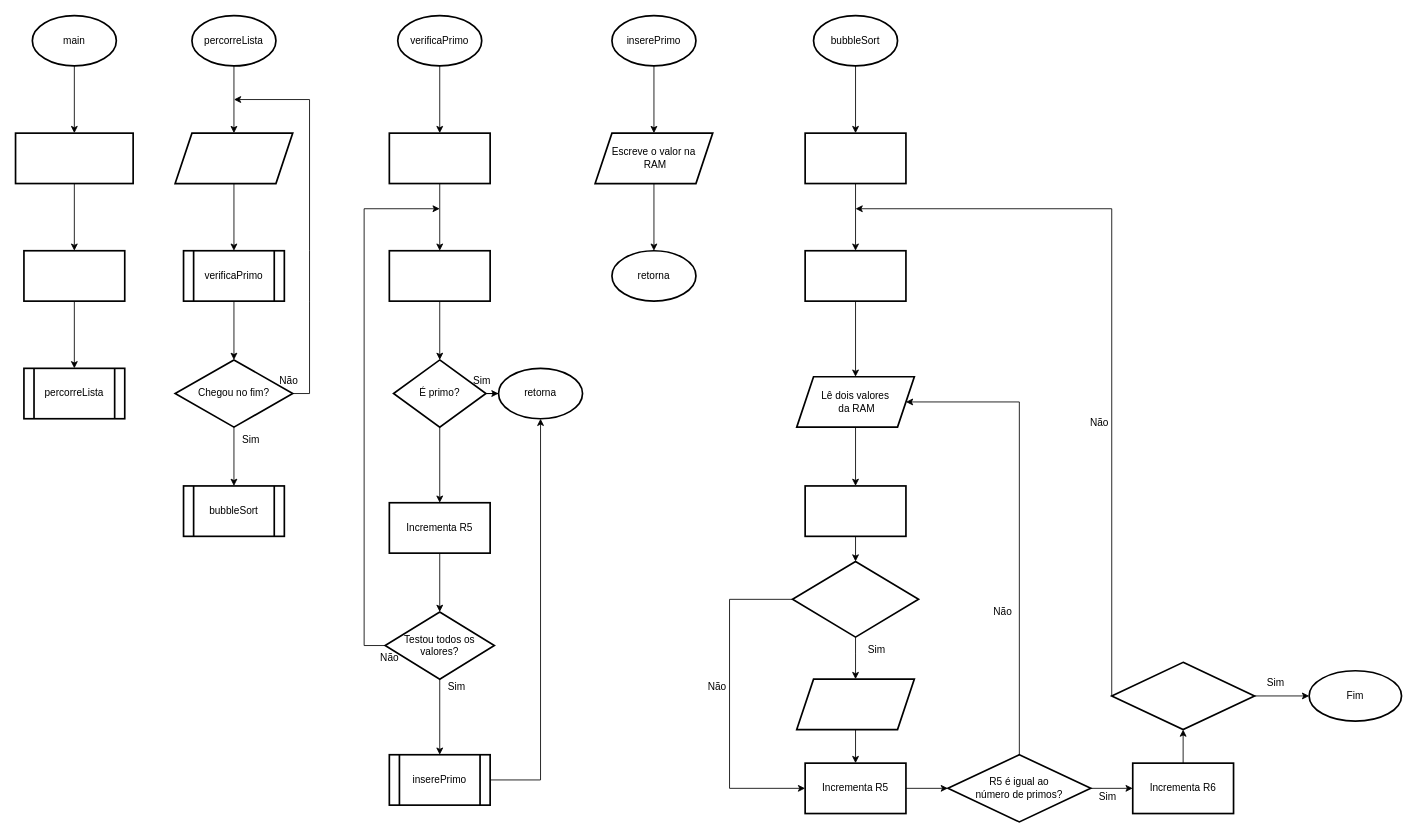
Some shapes in this 1416 by 837 pixel diagram are drawn without their labels. The shapes that lost their labels are listed below. From the top down, each one's centre as x and y in pixels, then its label:
pixel 74 158: lista = 0x20000200 primos = 0x20000300 R0 = lista
pixel 233 158: Lê um valor da RAM
pixel 439 158: R5 = 2
pixel 855 158: R6 = 1
pixel 74 275: R1 = 0 R2 = primos R3 = lista
pixel 439 275: Divide o valor por R5
pixel 855 275: R5 = 1 R2 = primos
pixel 855 511: Compara os valores
pixel 855 599: O primeiro é maior que o segundo?
pixel 855 704: Inverte as posições na RAM
pixel 1182 695: R6 é igual ao número de primos?
